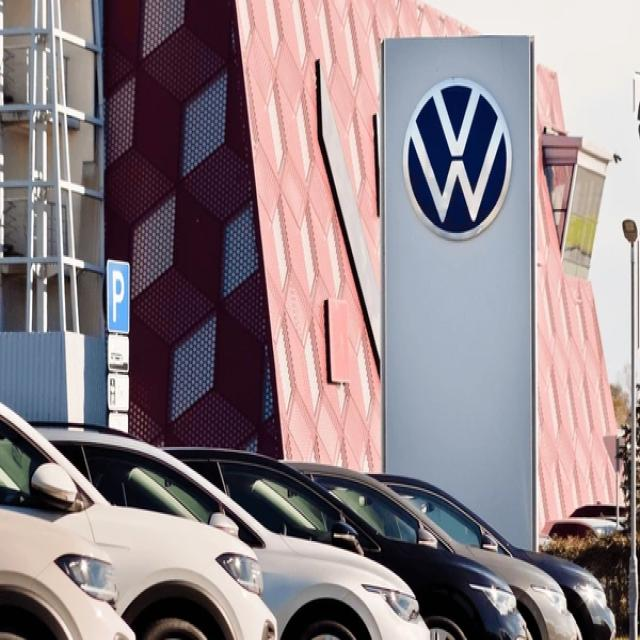wolksvogen: (403, 78, 512, 240)
